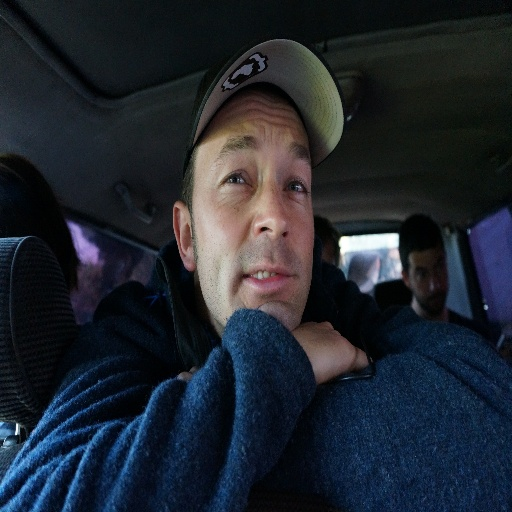hand: (290, 321, 372, 385), (175, 367, 199, 384)
